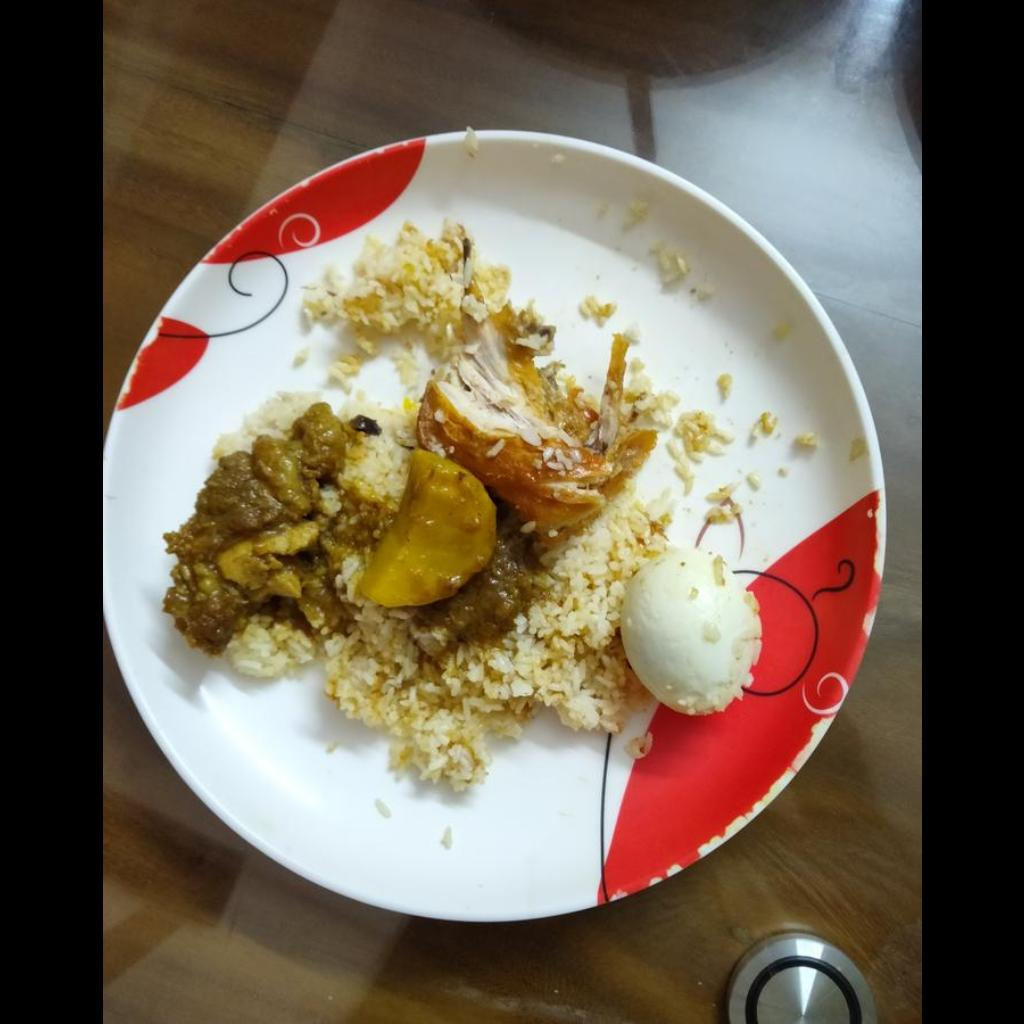biriyani: (161, 225, 761, 785)
